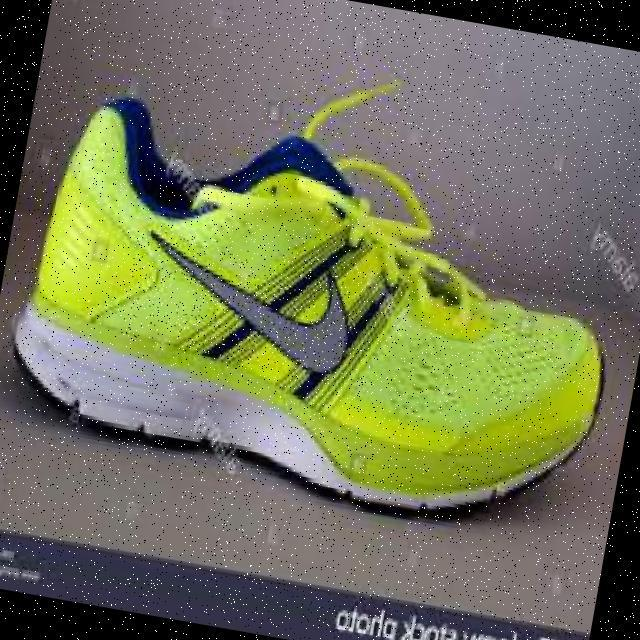Nike: (118, 225, 369, 380)
